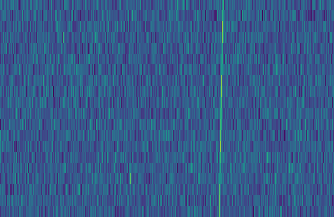signal: (215, 0, 228, 217)
